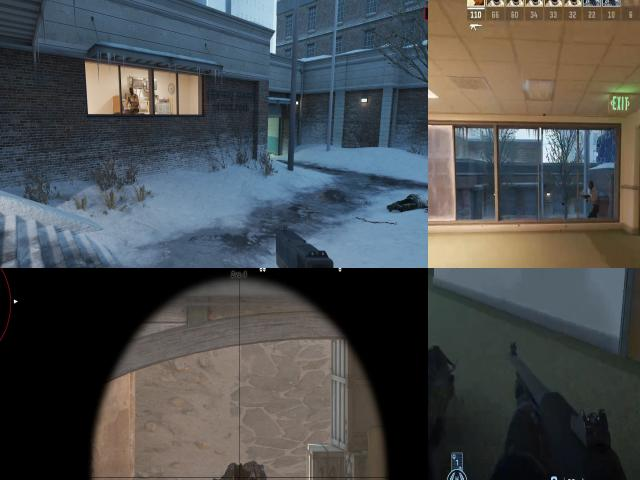CT-Head: (233, 466, 248, 480)
Dead: (428, 330, 459, 450), (216, 461, 268, 480), (392, 193, 428, 211)
T: (588, 180, 598, 214), (127, 86, 139, 112)
T-Head: (588, 178, 598, 192), (129, 87, 134, 94)
